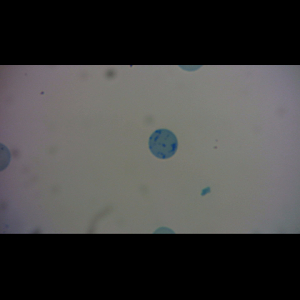aggregate reticulocyte: (148, 128, 179, 160)
